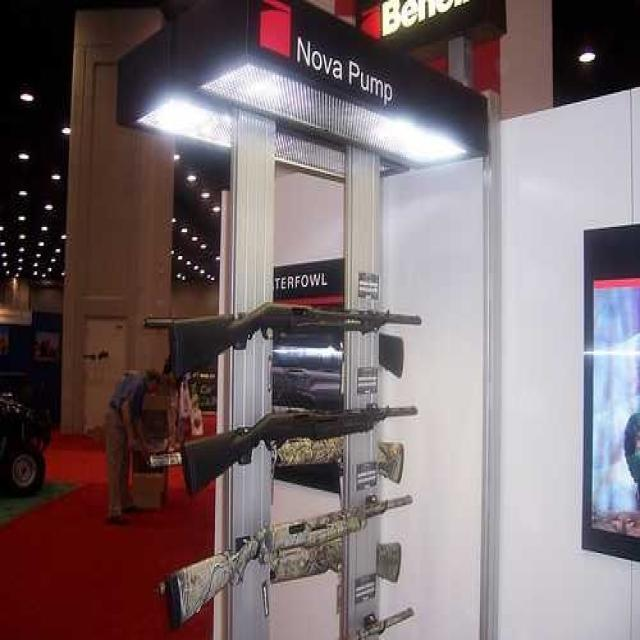heavyweapon: (140, 274, 444, 397), (171, 486, 425, 633), (177, 380, 433, 509)
